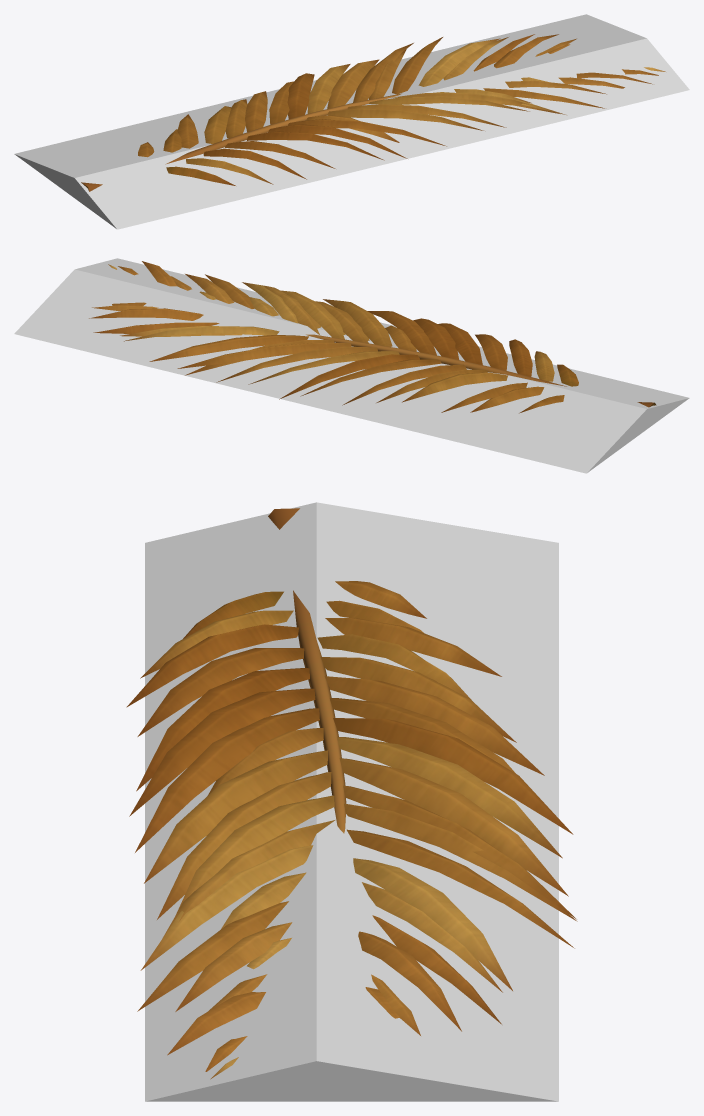
File: IO_PalmFrond_Fallen_A.glb
3 views of the same model, one above another, from view 1: azimuth 30°, elevation 25°; view 2: azimuth 150°, elevation 25°; view 3: azimuth 270°, elevation 25° (orthographic). The views are drawn at different scales.
Parts seen in each view (by area): view 1: IO_PalmFrond_Fallen_A_COL, IO_PalmFrond_Fallen_A_LOD0; view 2: IO_PalmFrond_Fallen_A_COL, IO_PalmFrond_Fallen_A_LOD0; view 3: IO_PalmFrond_Fallen_A_COL, IO_PalmFrond_Fallen_A_LOD0.
Boxes of the visible parts, box(x1,y1,x2,y2) form: IO_PalmFrond_Fallen_A_COL: box(14, 14, 689, 229); IO_PalmFrond_Fallen_A_LOD0: box(81, 34, 665, 191); IO_PalmFrond_Fallen_A_COL: box(14, 258, 689, 473); IO_PalmFrond_Fallen_A_LOD0: box(89, 261, 656, 413); IO_PalmFrond_Fallen_A_COL: box(145, 502, 558, 1101); IO_PalmFrond_Fallen_A_LOD0: box(126, 508, 577, 1079).
Size of what is drawn, in the model's own units: 2.06 by 0.1035 by 0.7036.
Materials: 1 (1 with a texture image).
